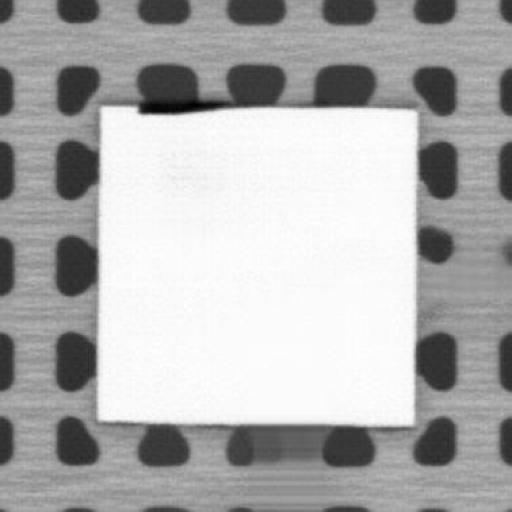DIE_BROKEN: (134, 97, 229, 116)
